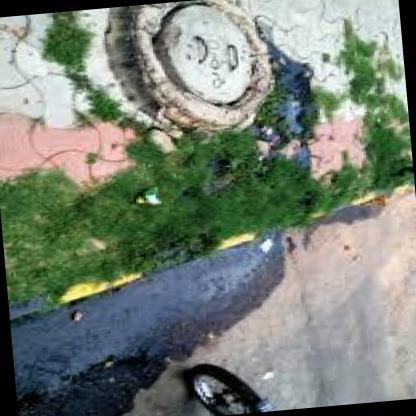manholes: (118, 0, 287, 135)
